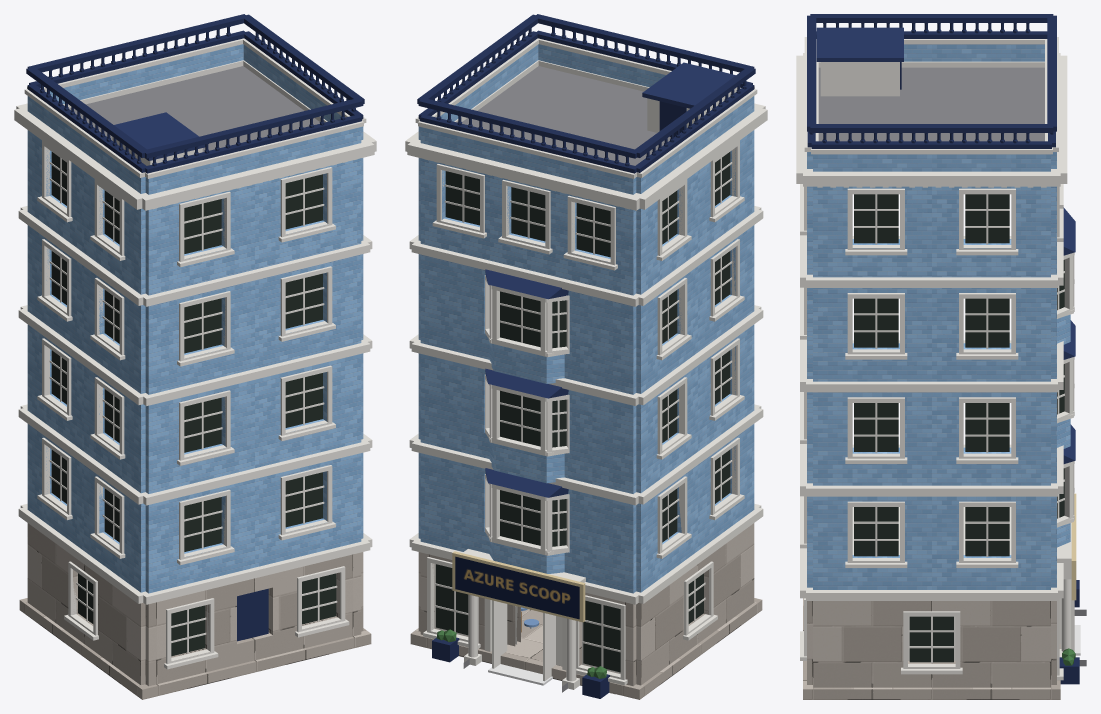
File: gedung-g08-blender-v2.glb
3 renders of one model, left to right at view 1: azimuth 30°, elevation 25°; view 2: azimuth 150°, elevation 25°; view 3: azimuth 270°, elevation 25°, orthographic. The views are drawn at different scales.
Parts seen in each view (by area): view 1: Cube.113, Cube.008, Cube, Cube.012, Cube.039, Cube.035, Cube.631; view 2: Cube.113, Cube.008, Cube.012, Cube.039, Cube, Cube.035, Cube.631, Int_Sign, Int_Room; view 3: Cube.113, Cube.008, Cube, Cube.012, Cube.035, Cube.039, Cube.631, Int_Room, Int_Sign.
Part boxes in pixels (x1,y1,x2,y2): Cube.113: (27,44,363,593); Cube.008: (14,38,376,669); Cube: (19,523,371,699); Cube.012: (51,152,336,656); Cube.039: (26,14,364,641); Cube.035: (69,66,319,151); Cube.631: (114,112,205,160); Cube.113: (418,44,754,593); Cube.008: (405,38,767,694); Cube.012: (436,152,730,672); Cube.039: (417,14,755,698); Cube: (410,523,762,699); Cube.035: (462,66,670,692); Cube.631: (485,62,735,497); Int_Sign: (452,551,585,622); Int_Room: (434,564,620,685); Cube.113: (807,44,1070,589); Cube.008: (796,37,1074,680); Cube: (803,598,1060,699); Cube.012: (854,194,1064,662); Cube.035: (818,67,1086,666); Cube.039: (807,14,1079,684); Cube.631: (816,27,1075,463); Int_Room: (852,507,1080,660); Int_Sign: (1071,493,1076,600).
Size of the model in its own units: 7.33 by 15.93 by 7.32.
28 materials, 3 textured.
